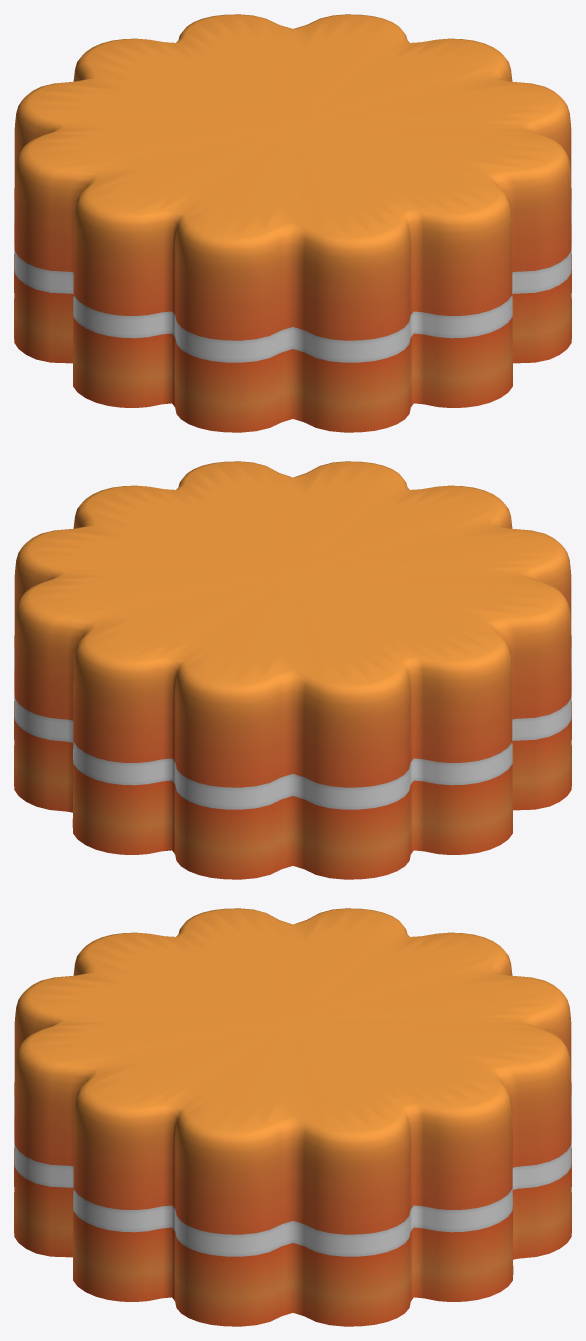
The model's file is cake06.FBX.
The picture shows the model from 3 angles, top to bottom: view 1: azimuth 30°, elevation 25°; view 2: azimuth 150°, elevation 25°; view 3: azimuth 270°, elevation 25°; orthographic projection.
Visible parts, largest first — view 1: cake06; view 2: cake06; view 3: cake06.
Boxes of the visible parts, x1,y1,x2,y2 form: cake06: [14, 14, 571, 432]; cake06: [14, 461, 571, 879]; cake06: [14, 908, 571, 1326].
Bounding box in the file's own units: 0.0185 × 0.00693 × 0.0185.
